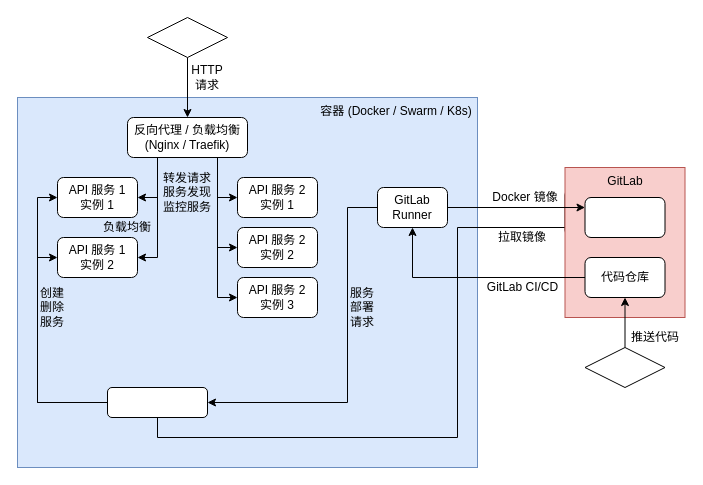
This 703x485 diagram has some shape labels left out. Here are the shapes that lost their labels. From the top down, the centre of each, then its label:
At point 187,37: "客户端".
At point 624,217: "容器仓库".
At point 624,367: "开发者".
At point 157,402: "部署服务".
